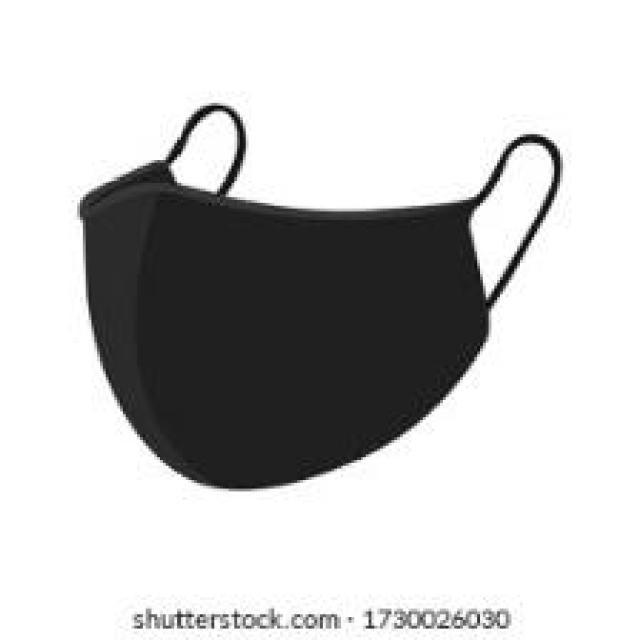Mask: (65, 86, 581, 485)
